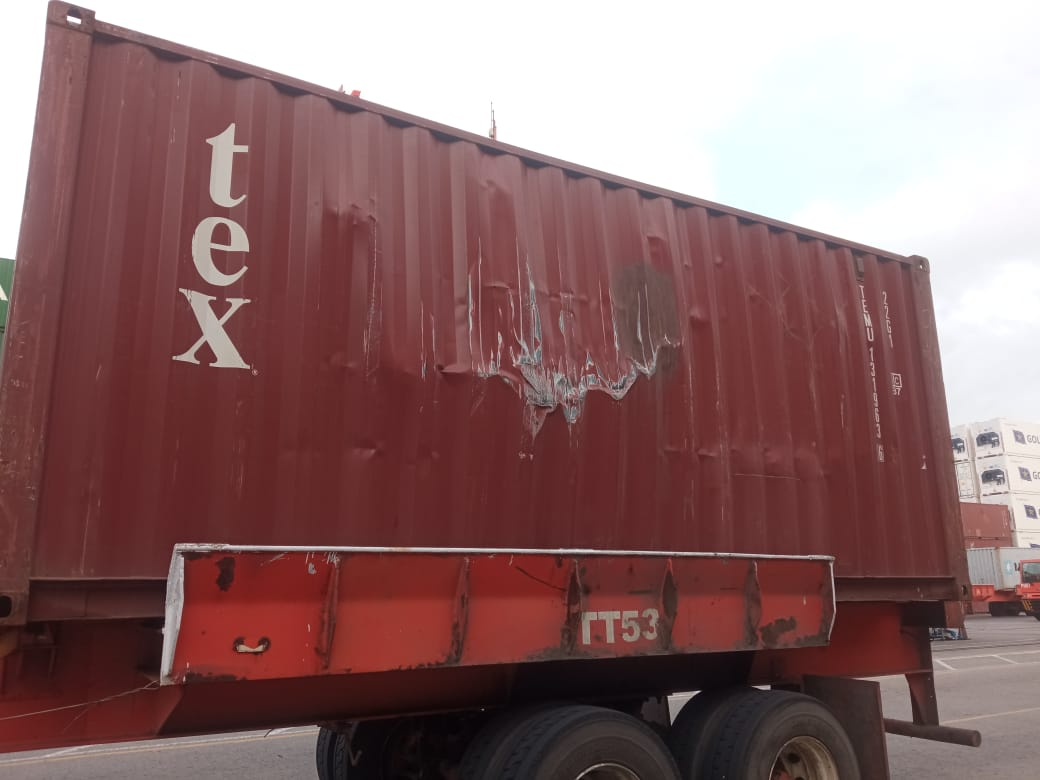bulged: (417, 318, 695, 463), (620, 223, 778, 331), (329, 349, 413, 402), (454, 168, 535, 211), (319, 197, 394, 241), (338, 440, 401, 473)
